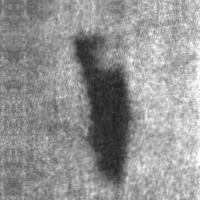patches: (76, 37, 130, 187)
